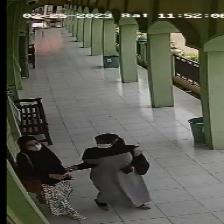HijabSyar-i: (14, 136, 78, 180)
Non Syar-i: (79, 133, 137, 160)
